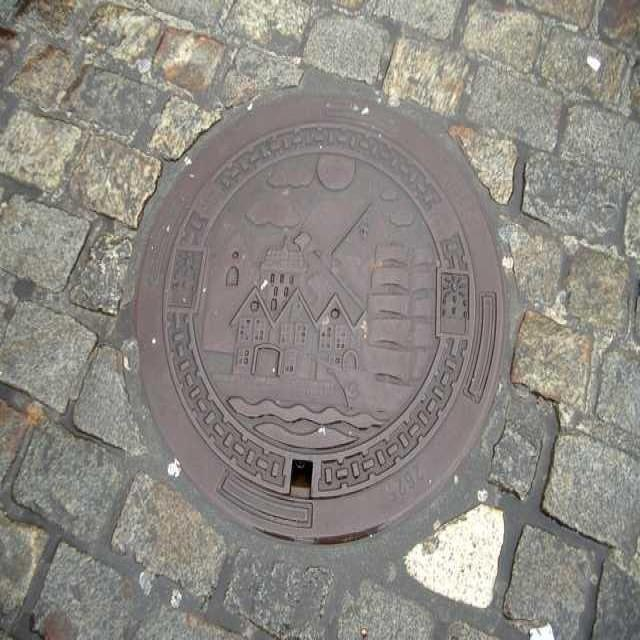manhole: (130, 91, 516, 548)
